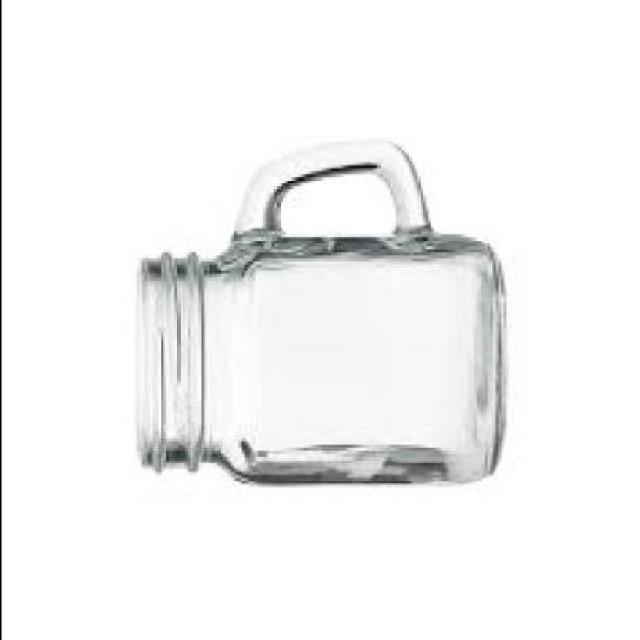GLASS: (132, 142, 502, 489)
